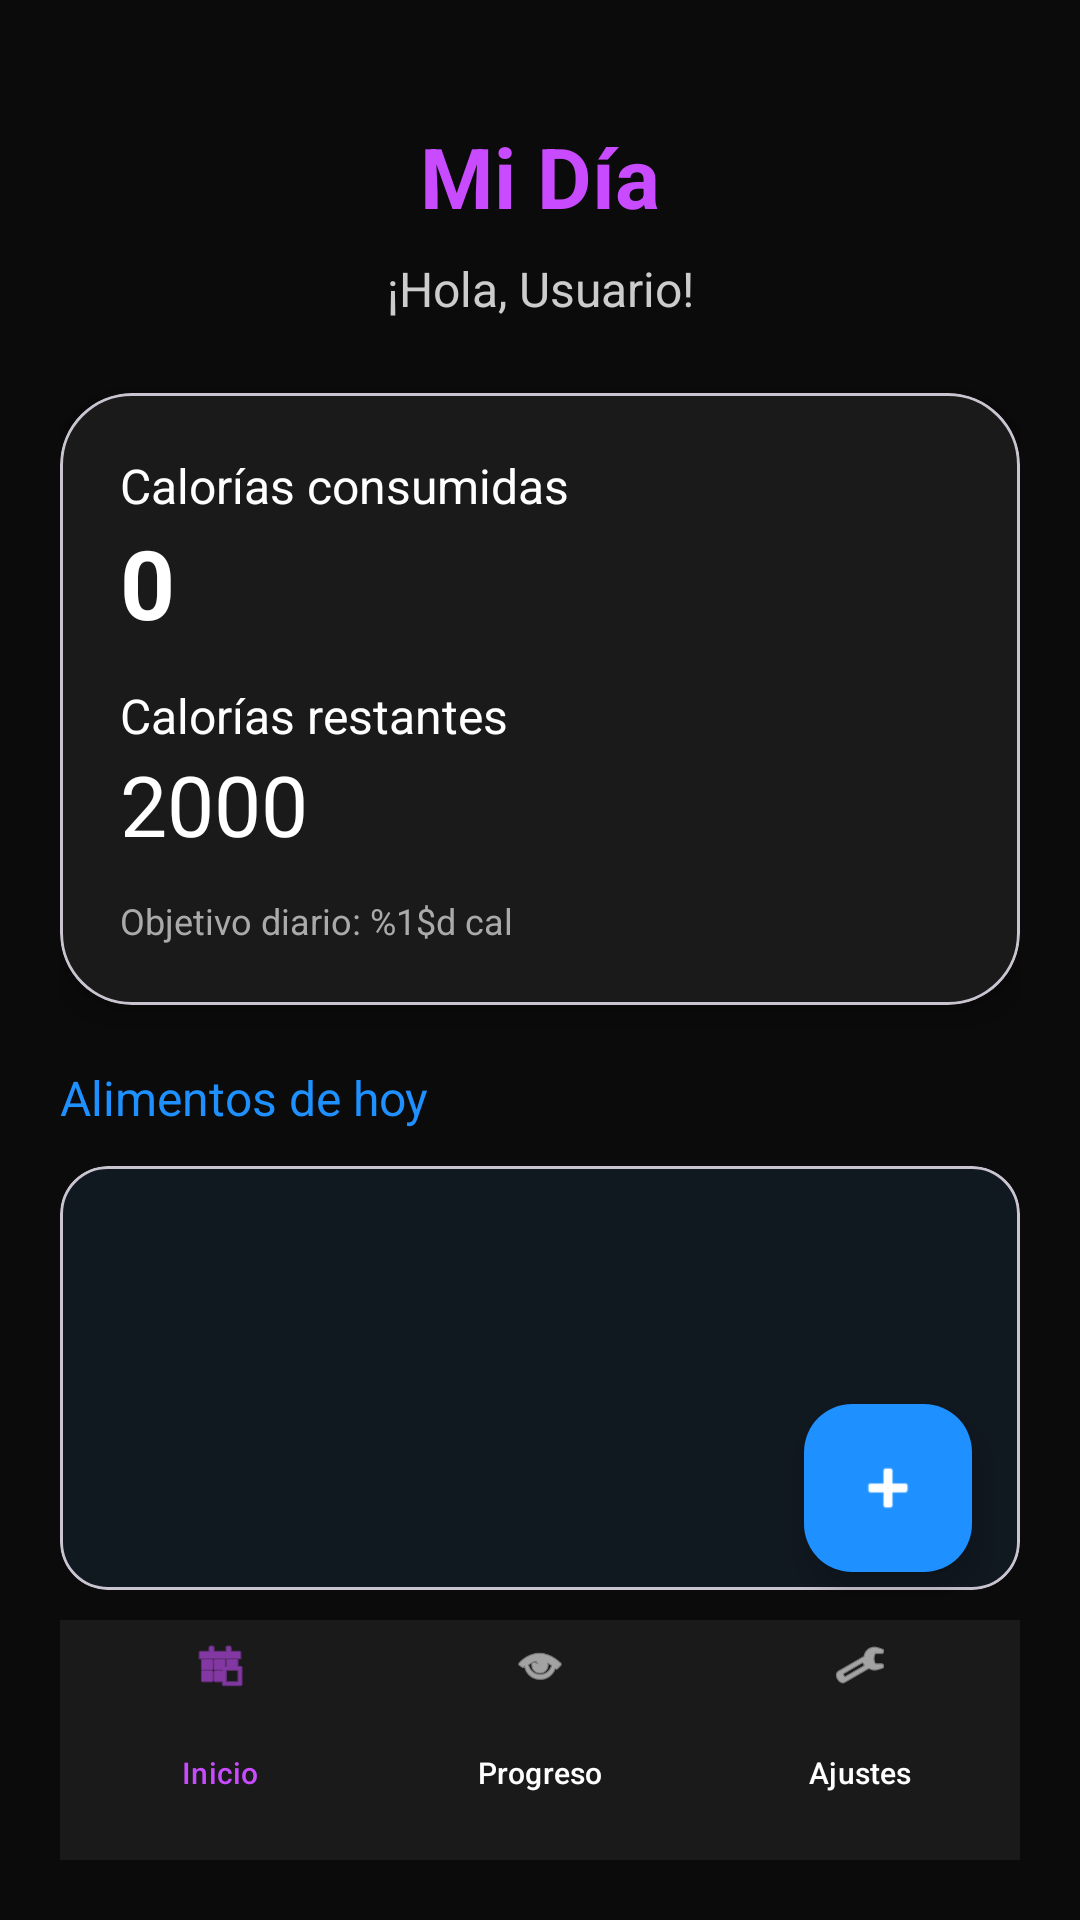

Icons on this 1080px×1920px Android screen, each with its box as region(x1, y1, x2, y2):
add: region(804, 1404, 972, 1572)
